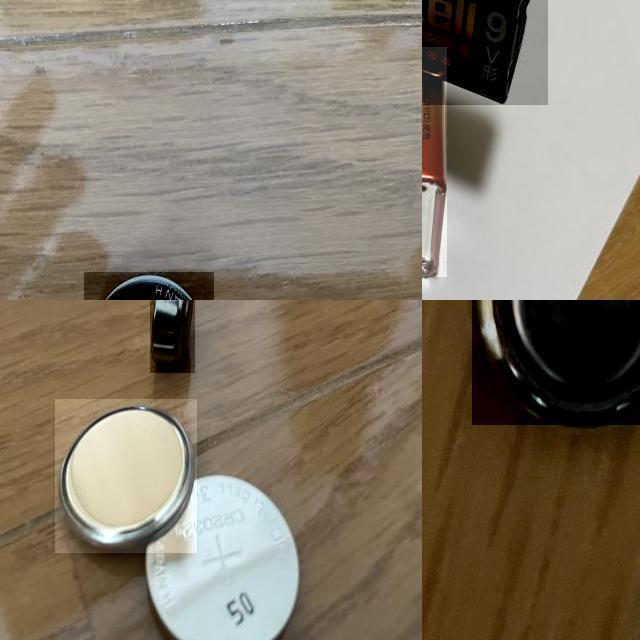9V: (422, 0, 548, 105), (422, 47, 447, 277)
